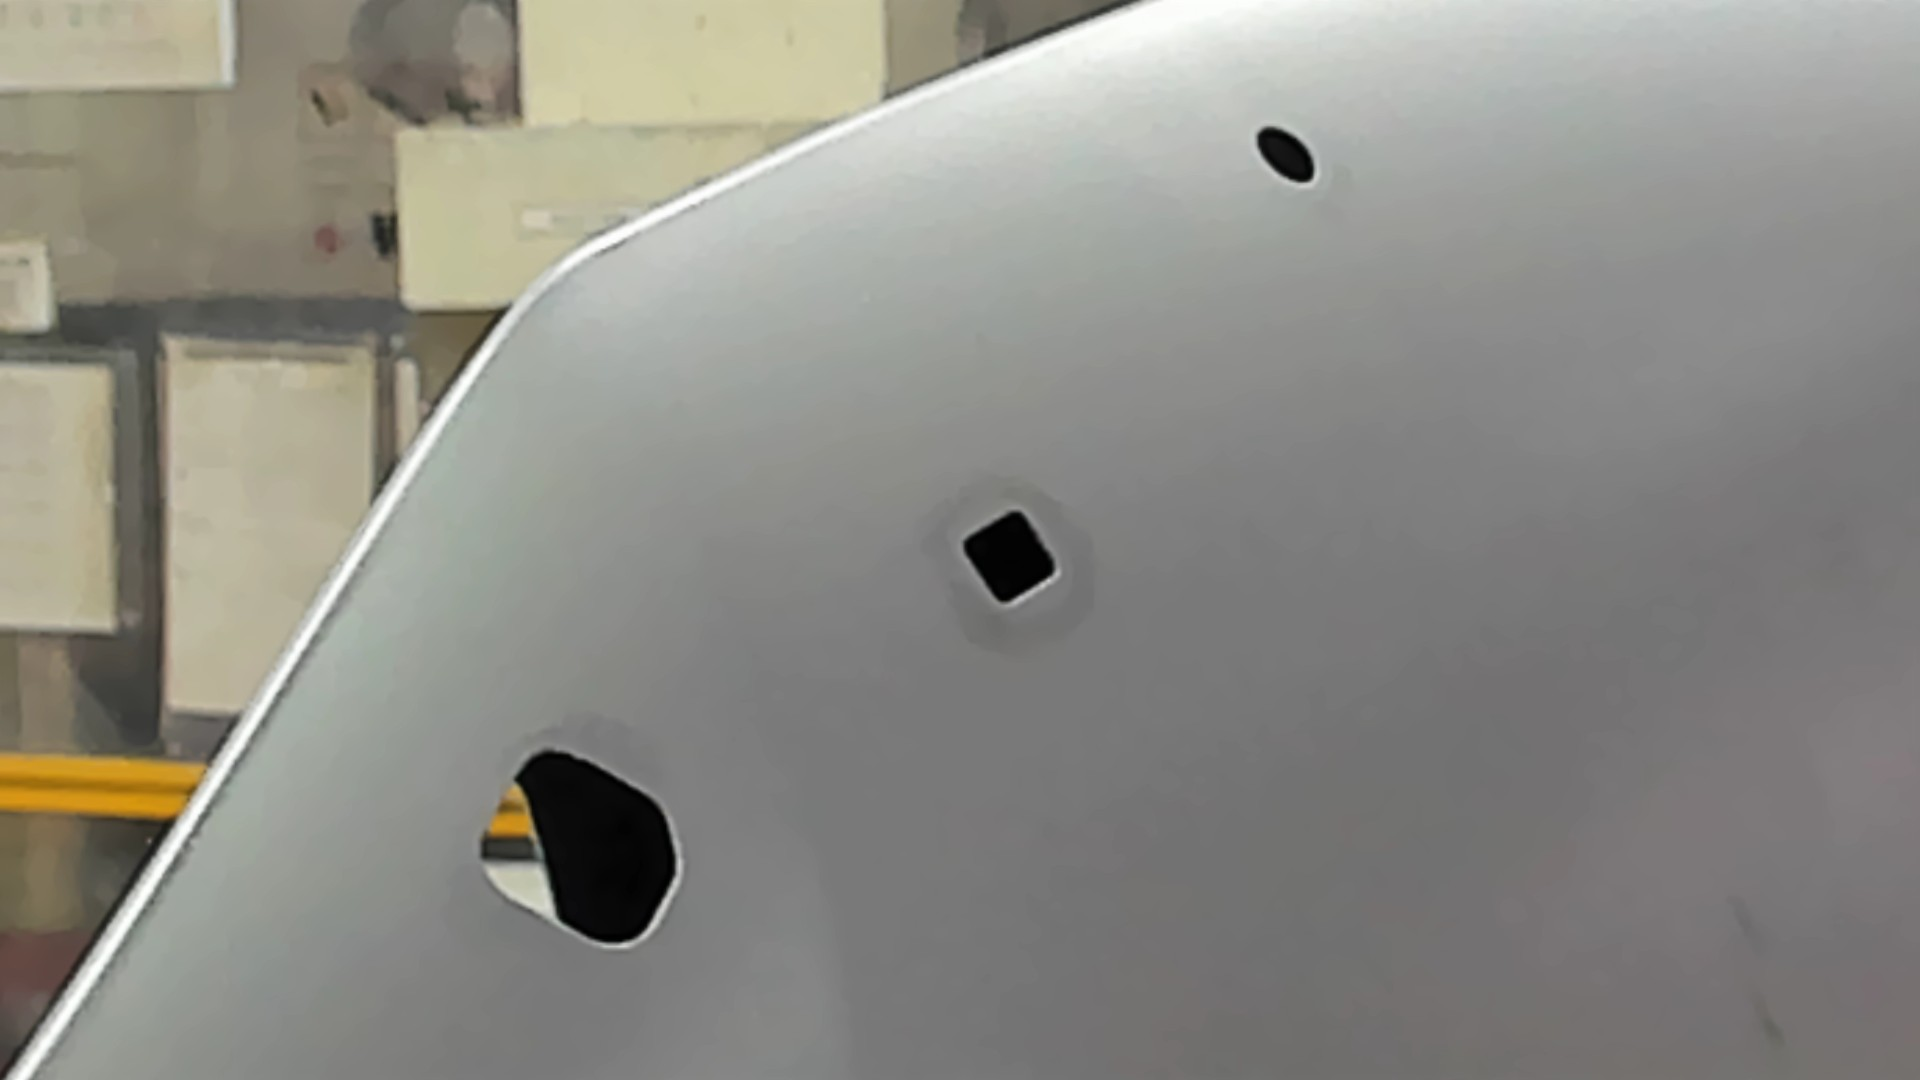chico: (1251, 121, 1319, 185)
grande: (473, 746, 688, 949)
mediano: (959, 506, 1062, 607)
